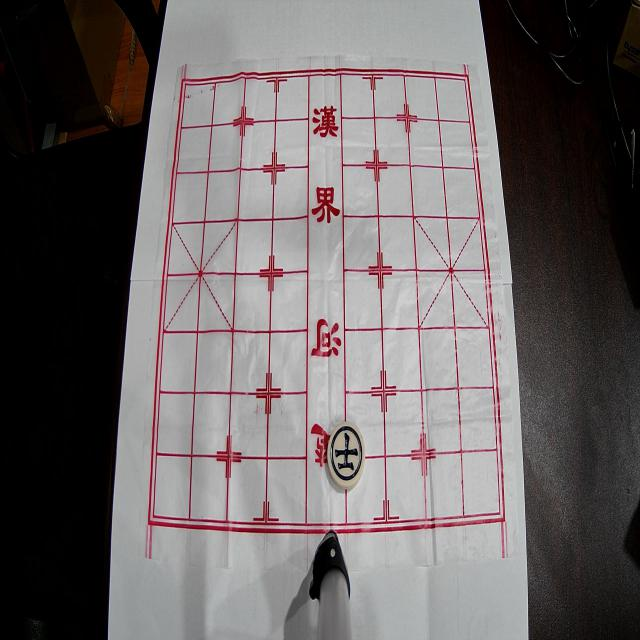black-guard: (327, 421, 365, 489)
